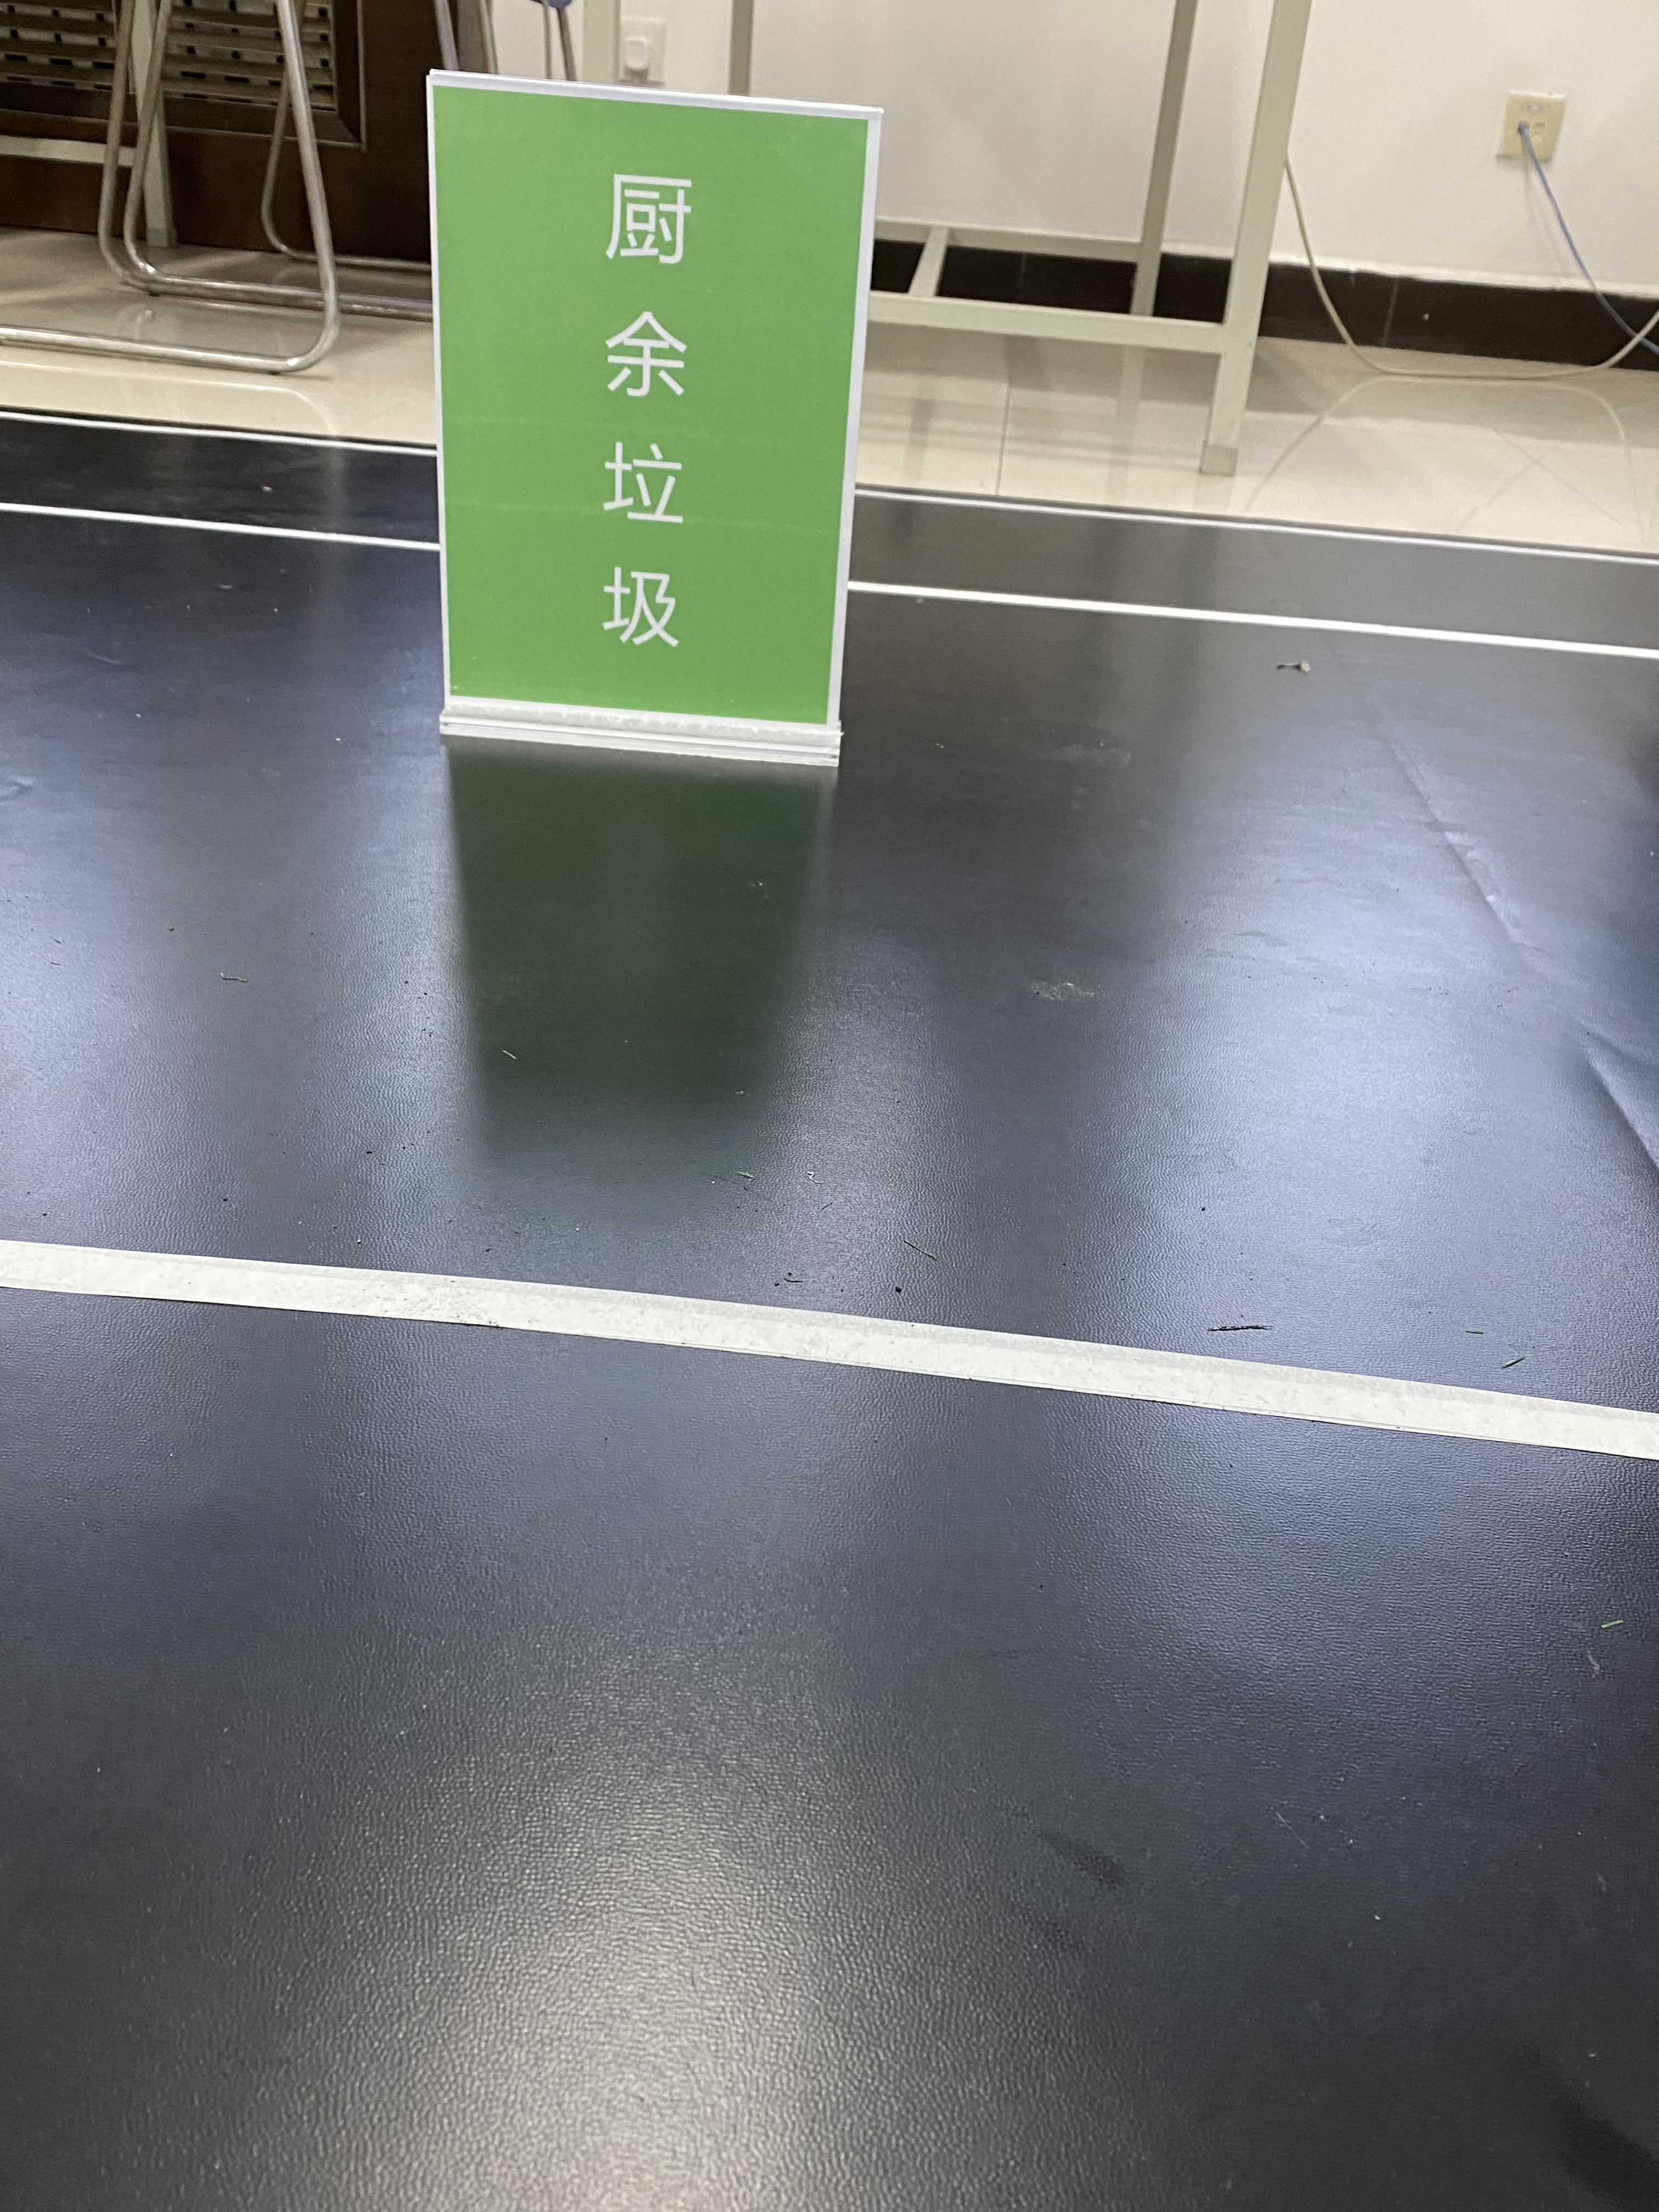green: (460, 110, 810, 702)
